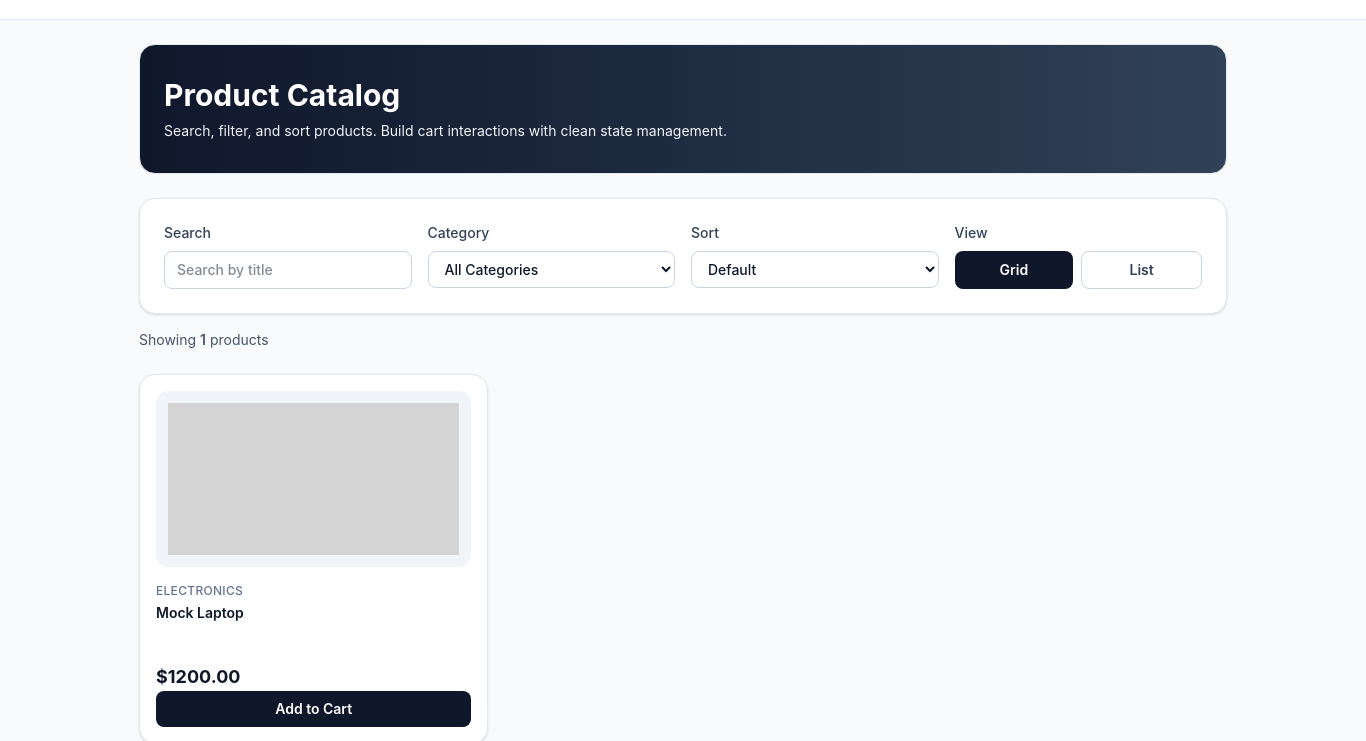
Test: ProductList add to cart flow › adds an item to cart and updates header badge
(page scrolled)
Expected: the heading "Mock Laptop" is shown, [156,604,244,621]
Step 1. Click the button with aria-label "add mock laptop to cart" → (314, 709), box [156,691,471,727]
(page scrolled)
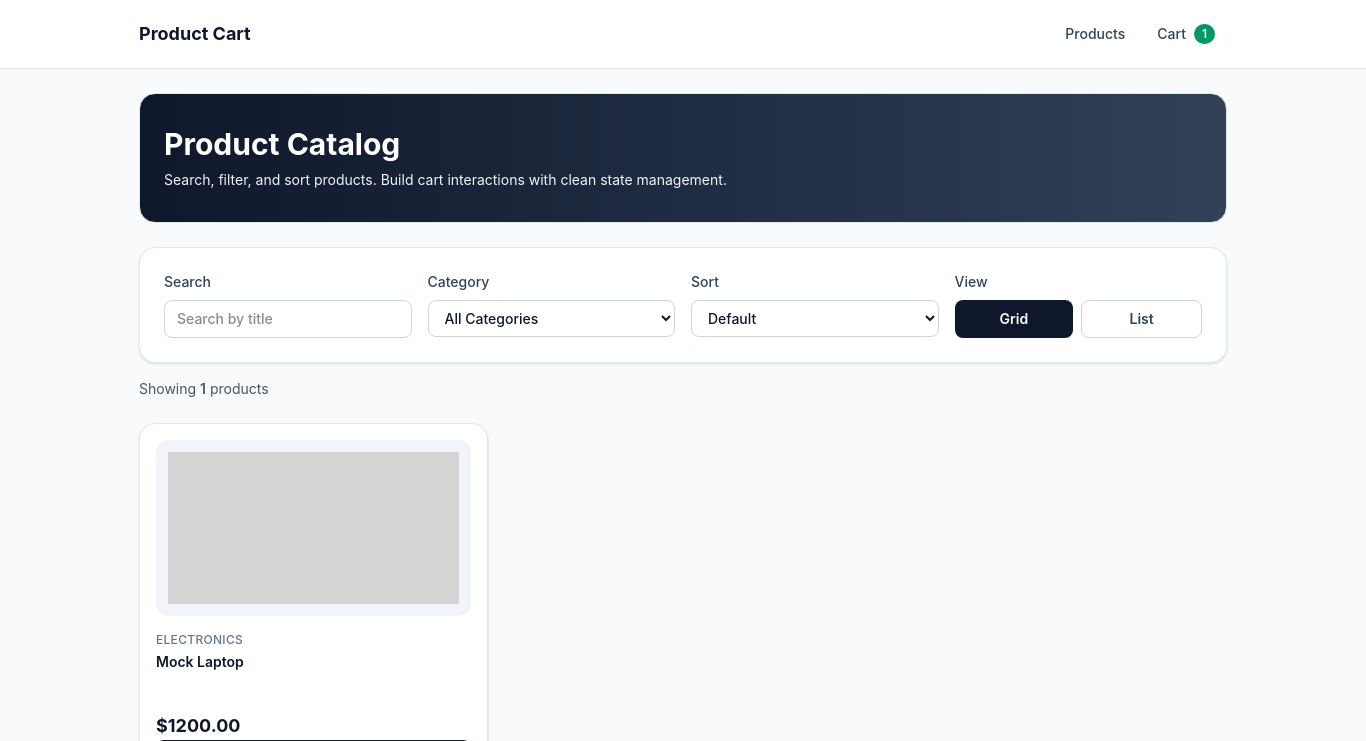
Expected: the text named "Cart has 1 items" is shown, [1194,24,1215,44]
